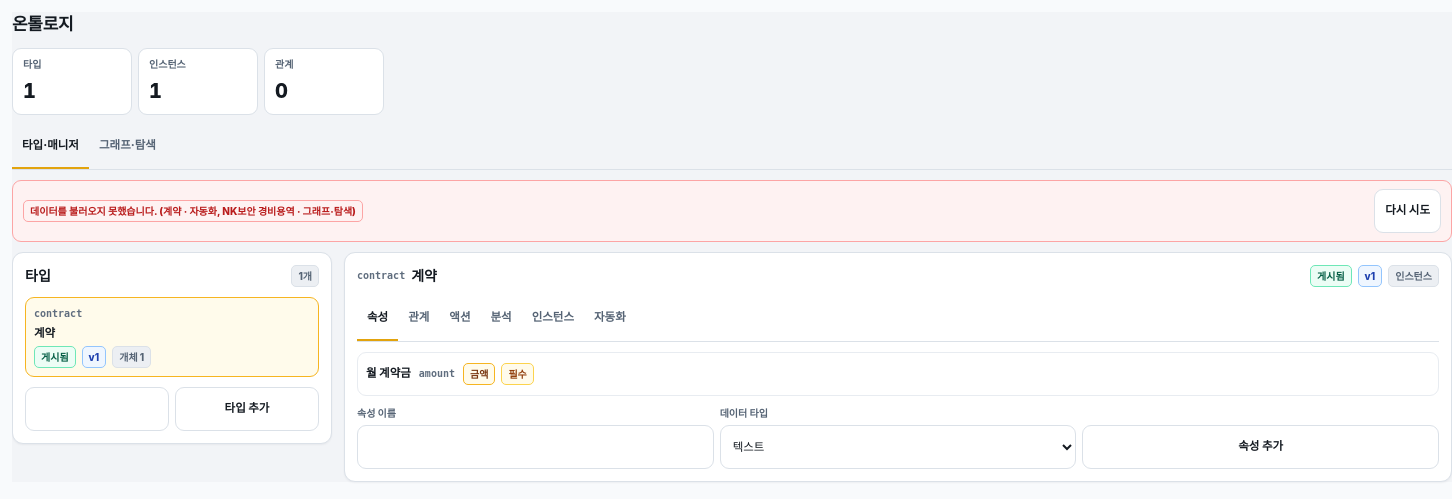
it: ontology workspace partial read failures › keeps successful registry data visible, names both degraded reads, and retries them
The image size is (1452, 499).
expect the element "계약" is shown: met, box [344,252,1451,482]
expect the message shows "데이터를 불러오지 못했습니다.": met, box [30,204,356,216]
Click the button "다시 시도": [1408, 210] box [1374,188,1441,232]
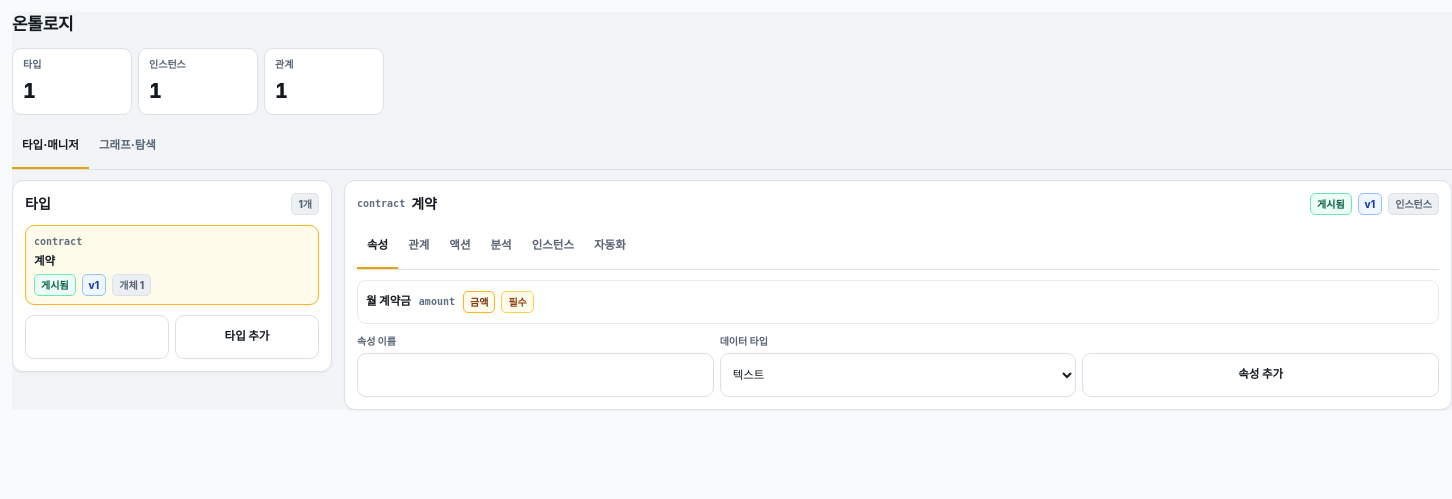
expect the element "계약" is shown: met, box [344,180,1451,410]
expect the message "데이터를 불러오지 못했습니다. (계약 · 자동화, NK보안 경비용역 · 그래프·탐색) 다시 시도" is gone: met
